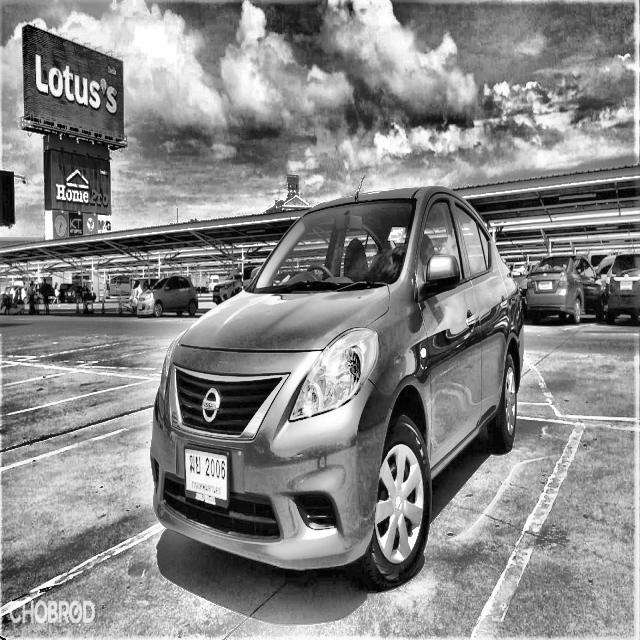license-plate: (181, 438, 233, 528)
